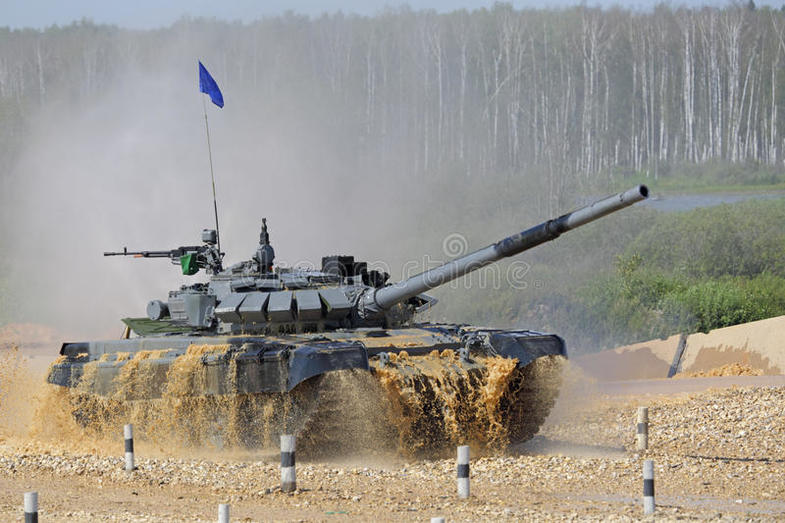t72: (46, 220, 600, 433)
